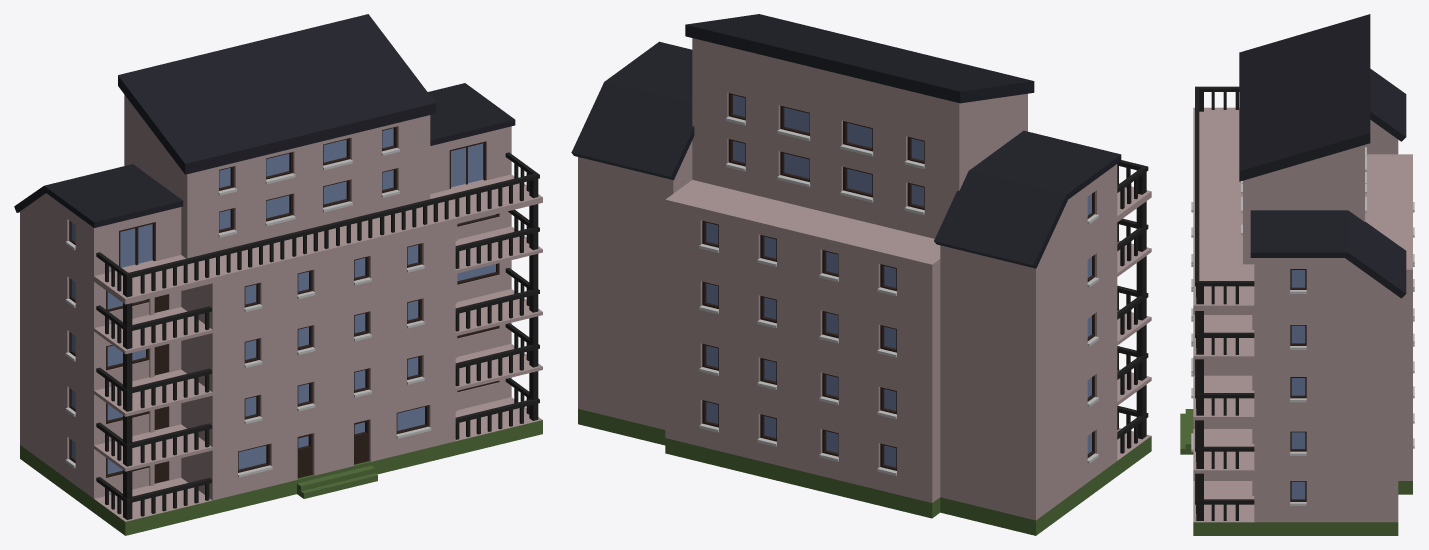
Rendered from ApartmentBuilding_06.fbx.
3 renders of one model, left to right at view 1: azimuth 30°, elevation 25°; view 2: azimuth 150°, elevation 25°; view 3: azimuth 270°, elevation 25°, orthographic. The views are drawn at different scales.
Parts seen in each view (by area): view 1: ApartmentBuilding_06; view 2: ApartmentBuilding_06; view 3: ApartmentBuilding_06.
Boxes of the visible parts, box(x1,y1,x2,y2) form: ApartmentBuilding_06: box(14, 14, 542, 535); ApartmentBuilding_06: box(571, 14, 1151, 535); ApartmentBuilding_06: box(1180, 14, 1414, 535).
Bounding box in the file's own units: 24.85 × 21.08 × 12.33.
